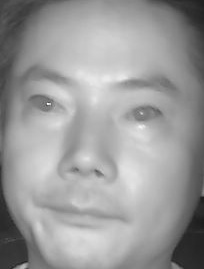eye: (23, 91, 69, 119), (122, 100, 164, 127)
mouth: (38, 187, 126, 237)
